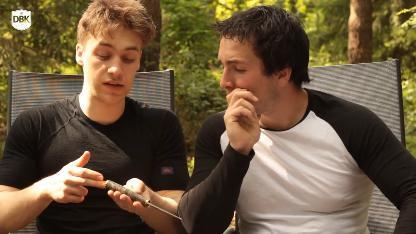knife: (102, 174, 186, 222)
